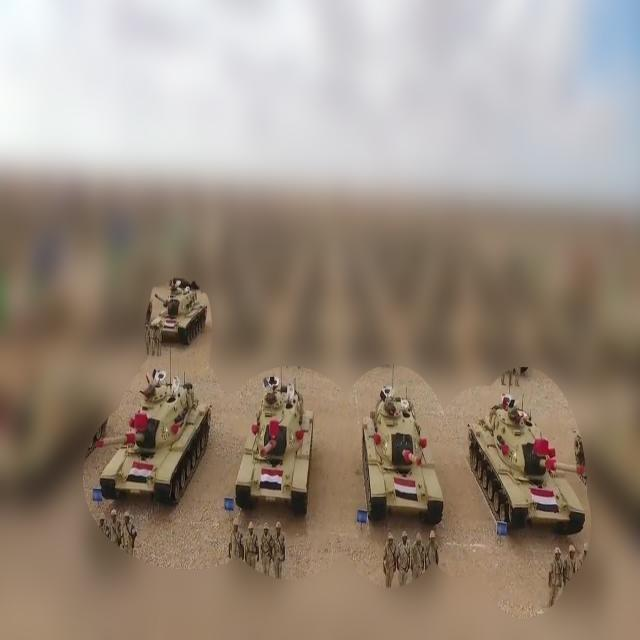tank: (465, 368, 590, 540), (93, 365, 213, 506), (350, 366, 446, 526), (234, 368, 316, 515), (146, 280, 210, 352)
